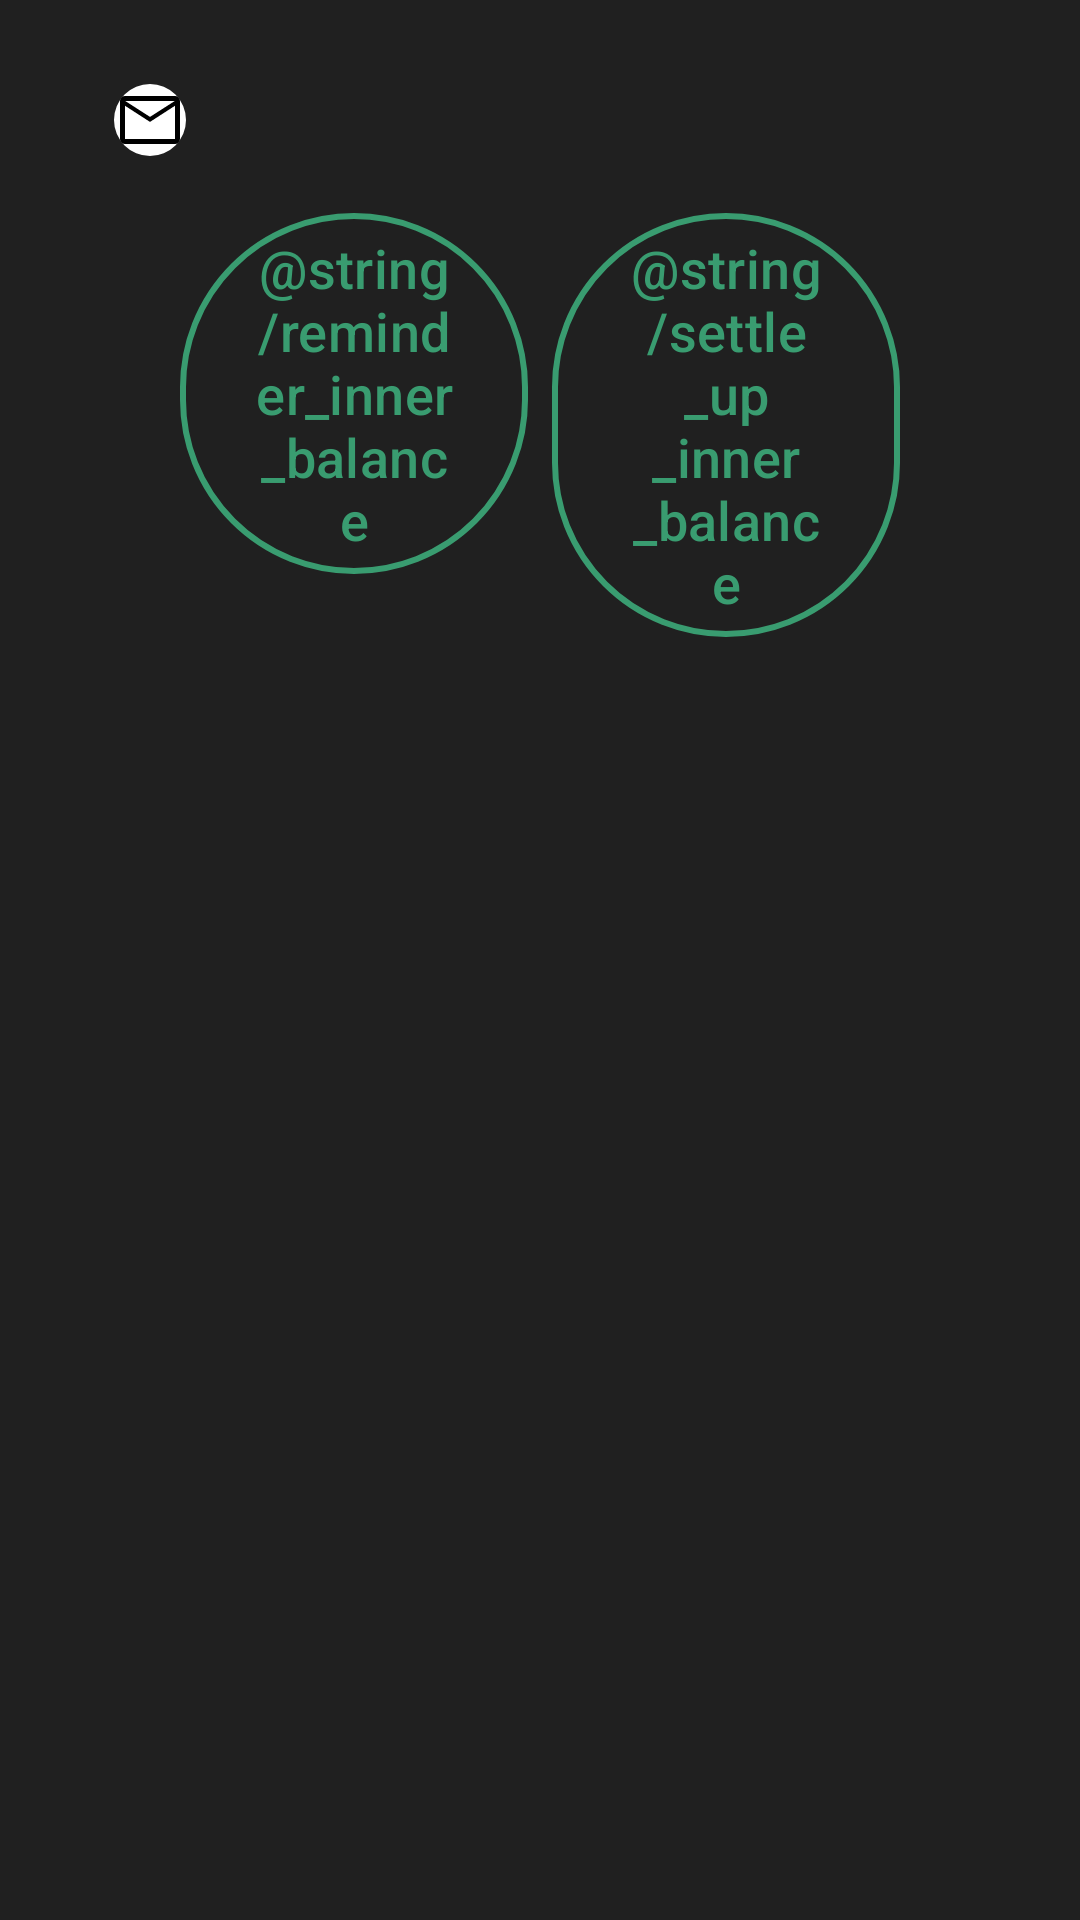

Where to tap for icons on this 1080 x 1920 app screen, as (x=x, y=y):
mail: (x=150, y=120)
